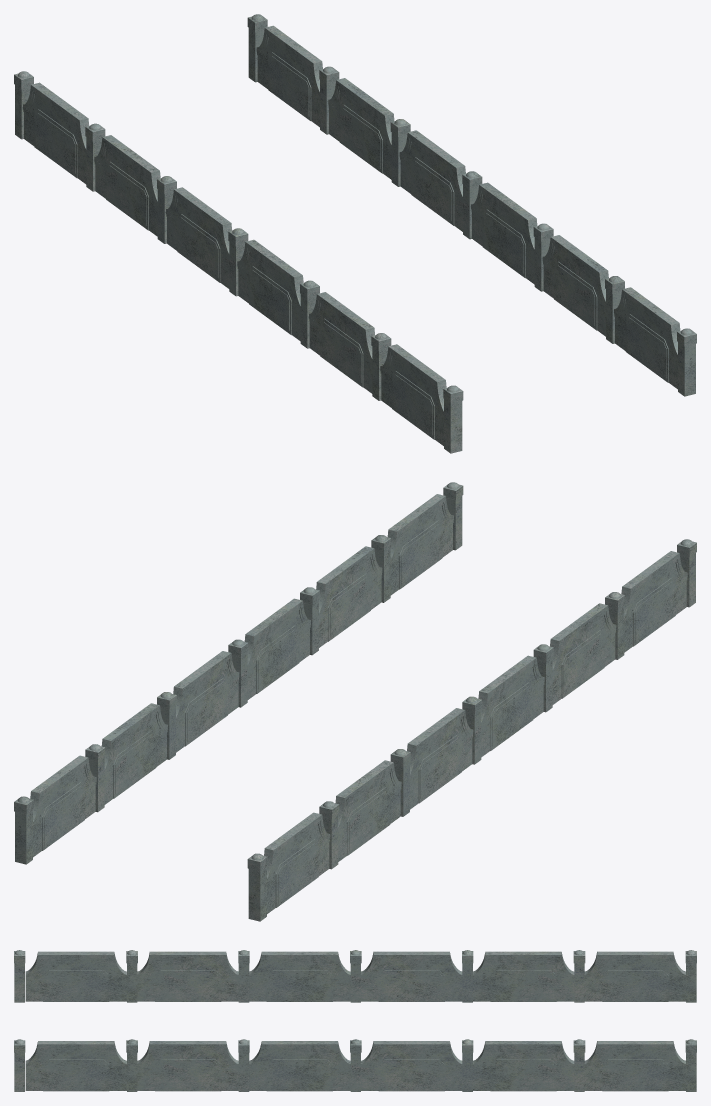
The model's file is BalustradeTestModel.FBX.
3 renders of one model, top to bottom at view 1: azimuth 30°, elevation 25°; view 2: azimuth 150°, elevation 25°; view 3: azimuth 270°, elevation 25°, orthographic. The views are drawn at different scales.
Visible parts, largest first — view 1: Balustrade005; view 2: Balustrade005; view 3: Balustrade005.
Part boxes in pixels (x1,y1,x2,y2): Balustrade005: (14,14,696,453); Balustrade005: (14,482,696,921); Balustrade005: (14,950,696,1091).
Size of the model in its own units: 141 by 34.71 by 433.
Materials: 1 (1 with a texture image).
